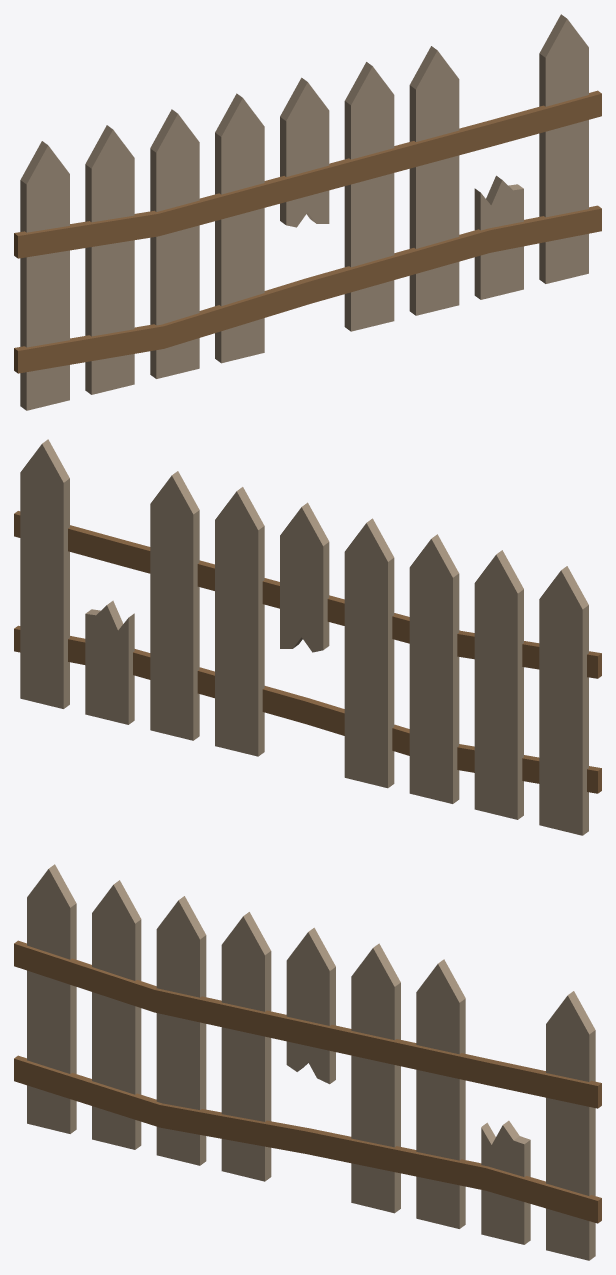
Rendered from Fence_3.fbx.
The picture shows the model from 3 angles, top to bottom: view 1: azimuth 30°, elevation 25°; view 2: azimuth 150°, elevation 25°; view 3: azimuth 330°, elevation 25°; orthographic projection.
Parts seen in each view (by area): view 1: Plane; view 2: Plane; view 3: Plane.
Part boxes in pixels (x1,y1,x2,y2): Plane: (14, 14, 601, 410); Plane: (14, 439, 601, 835); Plane: (14, 864, 601, 1260).
Size of the model in its own units: 5.4 by 2.3 by 0.1359.
